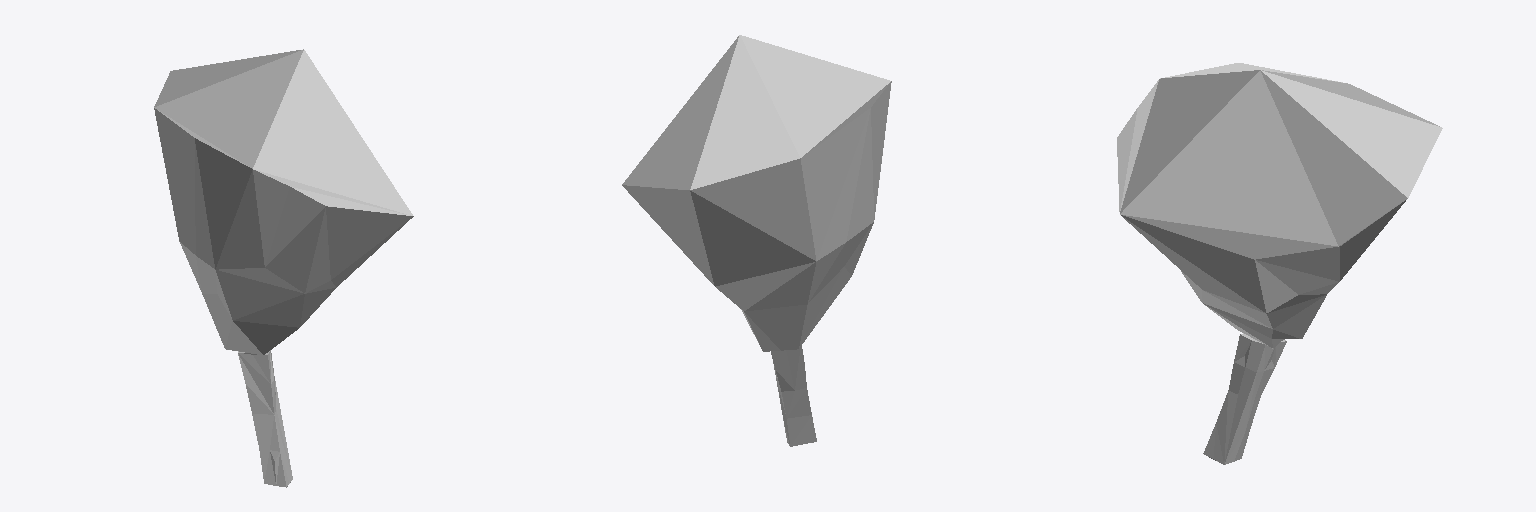
The model's file is Rreg.obj.
3 renders of one model, left to right at view 1: azimuth 30°, elevation 25°; view 2: azimuth 150°, elevation 25°; view 3: azimuth 270°, elevation 25°, orthographic.
Visible parts, largest first — view 1: polySurface491 polySurface486, polySurface496 polySurface16; view 2: polySurface491 polySurface486, polySurface496 polySurface16; view 3: polySurface491 polySurface486, polySurface496 polySurface16.
Part boxes in pixels (x1,y1,x2,y2): polySurface491 polySurface486: (154,49,413,355); polySurface496 polySurface16: (238,350,292,487); polySurface491 polySurface486: (622,35,891,351); polySurface496 polySurface16: (771,346,816,446); polySurface491 polySurface486: (1117,63,1442,348); polySurface496 polySurface16: (1203,333,1286,464).
Bounding box in the file's own units: 13.55 × 32.23 × 23.29.